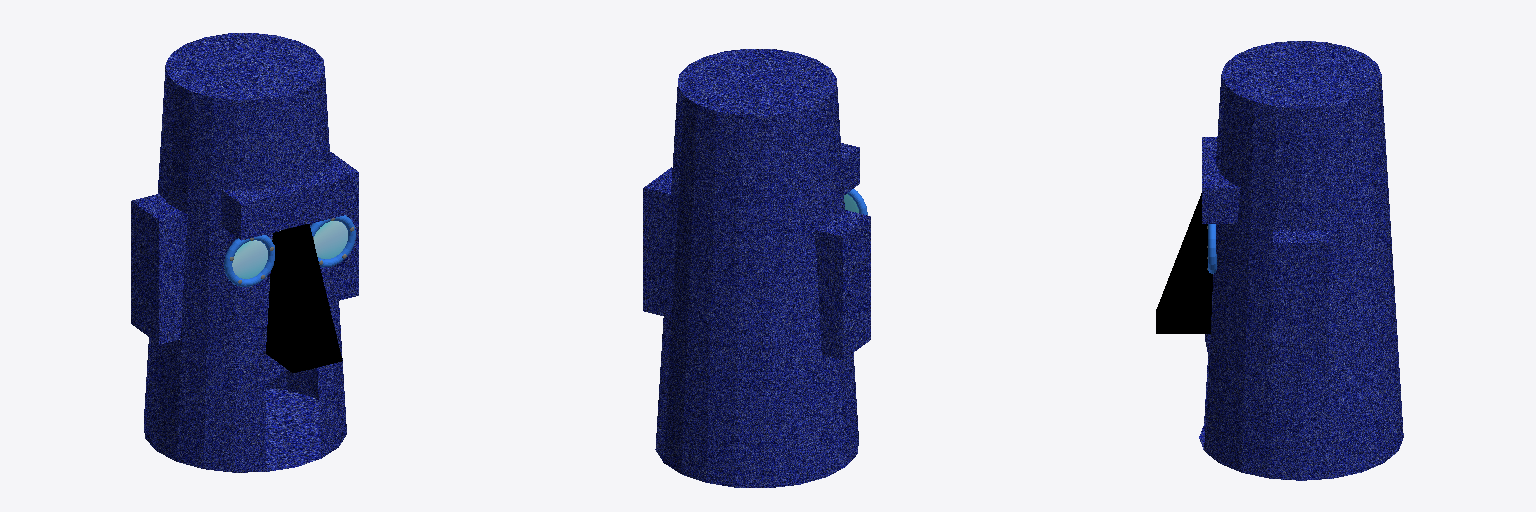
The picture shows the model from 3 angles: view 1: azimuth 30°, elevation 25°; view 2: azimuth 150°, elevation 25°; view 3: azimuth 270°, elevation 25°; orthographic projection.
Visible parts, largest first — view 1: group4_pasted__group2_pasted__pasted__pSphere2; view 2: group4_pasted__group2_pasted__pasted__pSphere2; view 3: group4_pasted__group2_pasted__pasted__pSphere2.
Part boxes in pixels (left/top/right/bottom): group4_pasted__group2_pasted__pasted__pSphere2: left=131, top=33, right=358, bottom=472; group4_pasted__group2_pasted__pasted__pSphere2: left=643, top=49, right=870, bottom=487; group4_pasted__group2_pasted__pasted__pSphere2: left=1156, top=41, right=1403, bottom=480.
Size of the model in its own units: 2.88 by 5 by 3.09.
7 materials, 4 textured.